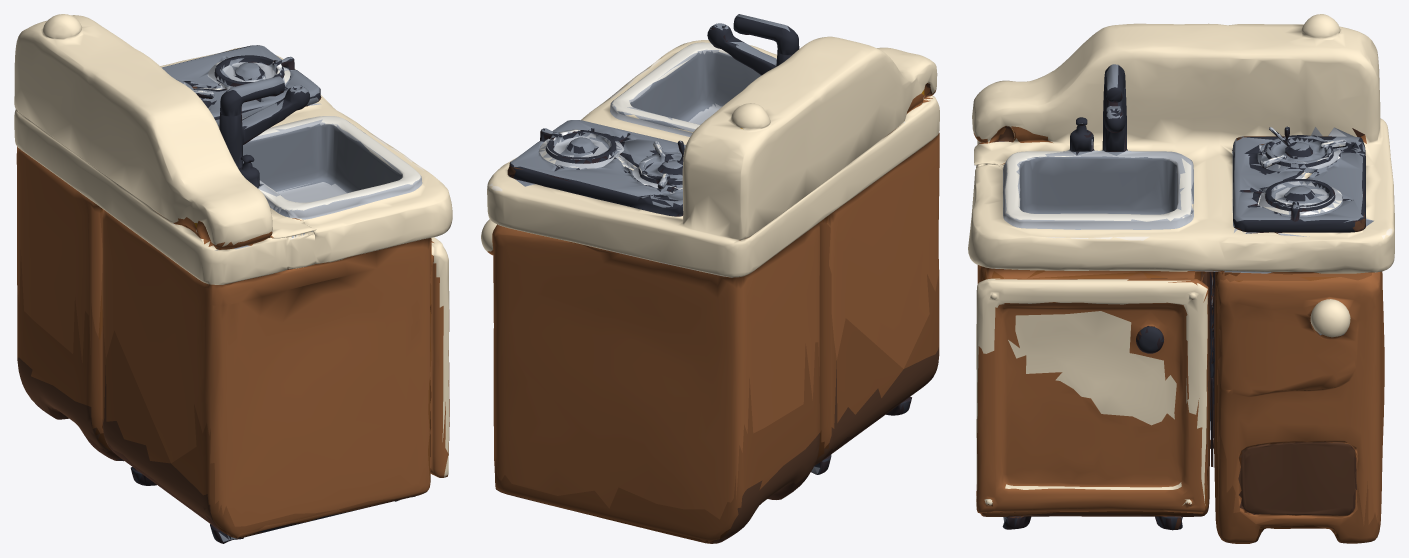
Rendered from SM_kitchen_unit_upper.glb.
The picture shows the model from 3 angles, left to right: view 1: azimuth 30°, elevation 25°; view 2: azimuth 150°, elevation 25°; view 3: azimuth 270°, elevation 25°; orthographic projection.
Parts seen in each view (by area): view 1: SM_kitchen_unit_upper; view 2: SM_kitchen_unit_upper; view 3: SM_kitchen_unit_upper.
Boxes of the visible parts, x1,y1,x2,y2 form: SM_kitchen_unit_upper: (14, 14, 452, 543); SM_kitchen_unit_upper: (481, 14, 939, 543); SM_kitchen_unit_upper: (968, 14, 1394, 543).
Bounding box in the file's own units: 0.6364 × 0.9 × 0.8341.
Materials: 1 (1 with a texture image).
